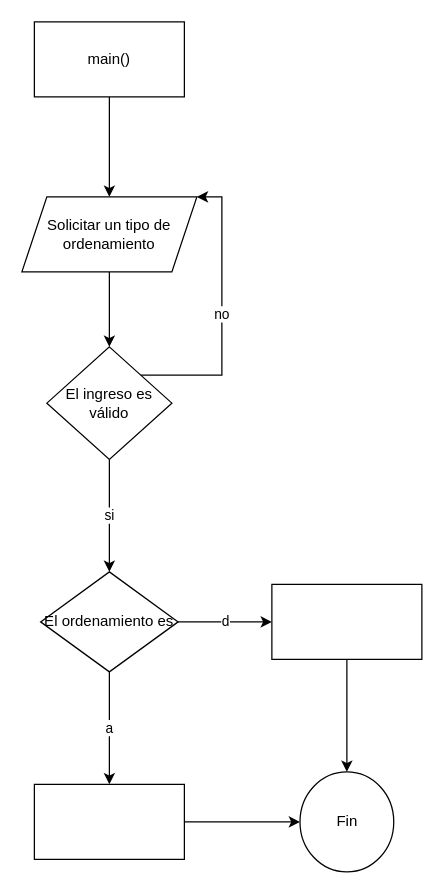
Some shapes in this 444 by 894 pixel diagram are drawn without their labels. Each missing label, with the centre of its shape:
"Imprime el vector ascendente" goes at [108,821].
"Imprime el vector descendente" goes at [346,621].
